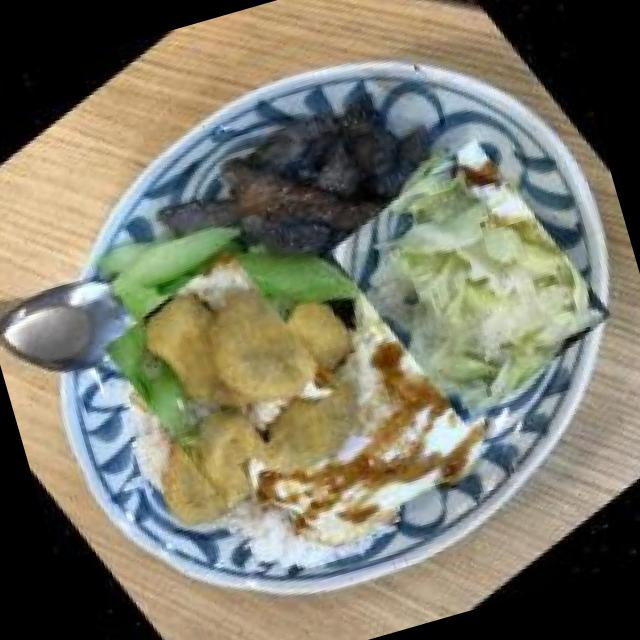chicken_nuggets: (76, 231, 414, 568)
chinese_cabbage: (309, 114, 632, 452)
fried_eggs: (212, 304, 538, 596)
rice: (206, 468, 335, 608)
